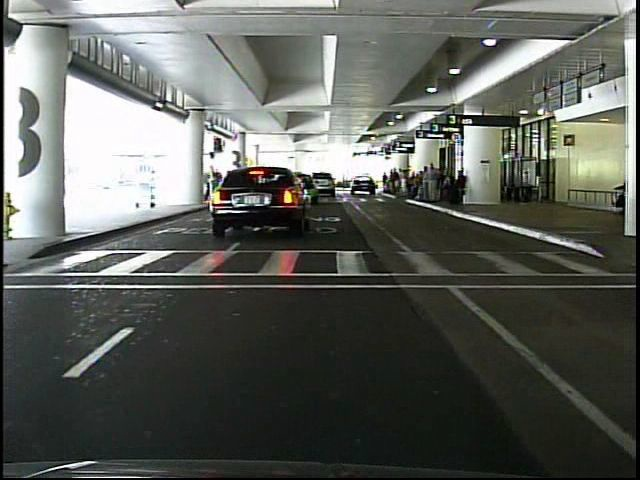person: (423, 158, 444, 208)
